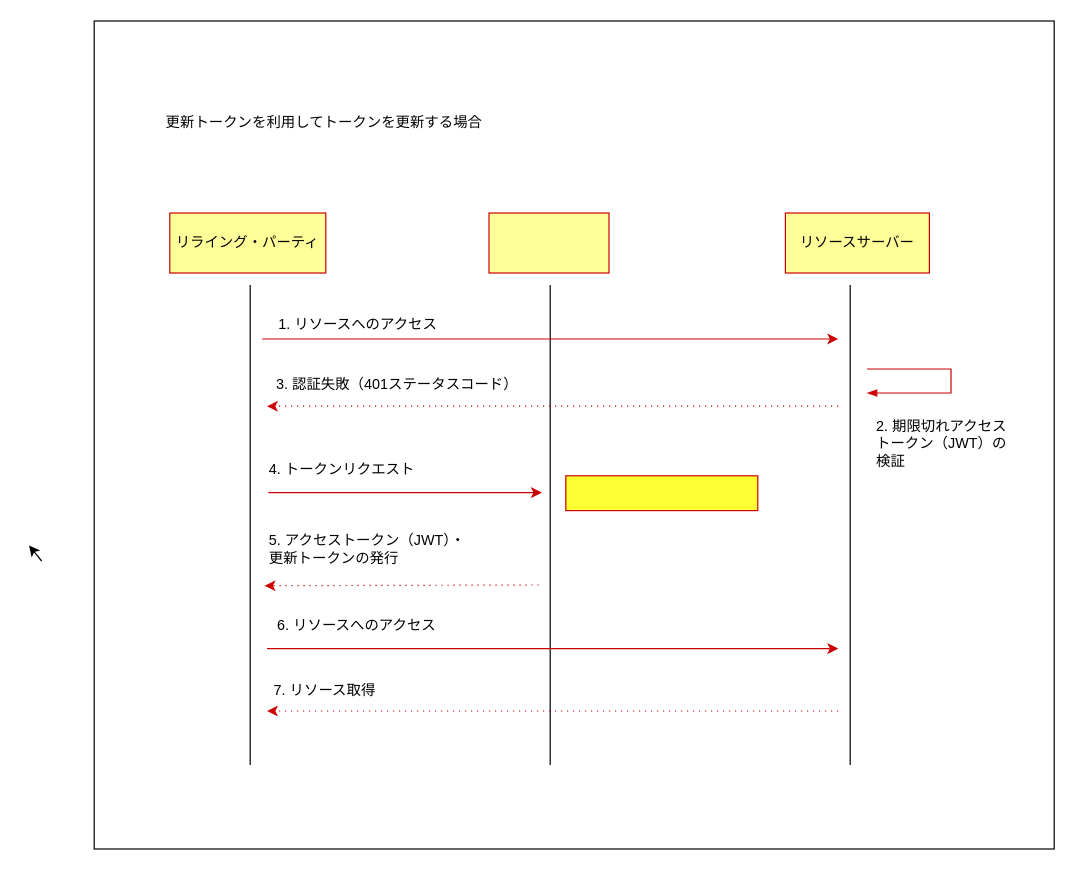
Image size: 1076x870. Some labels were removed from this diagram. Here are the shapes that lost their labels. From the top down, the centre of each, then its label:
At (548,242): "認可サーバー".
At (661,493): "トークンエンドポイント".
